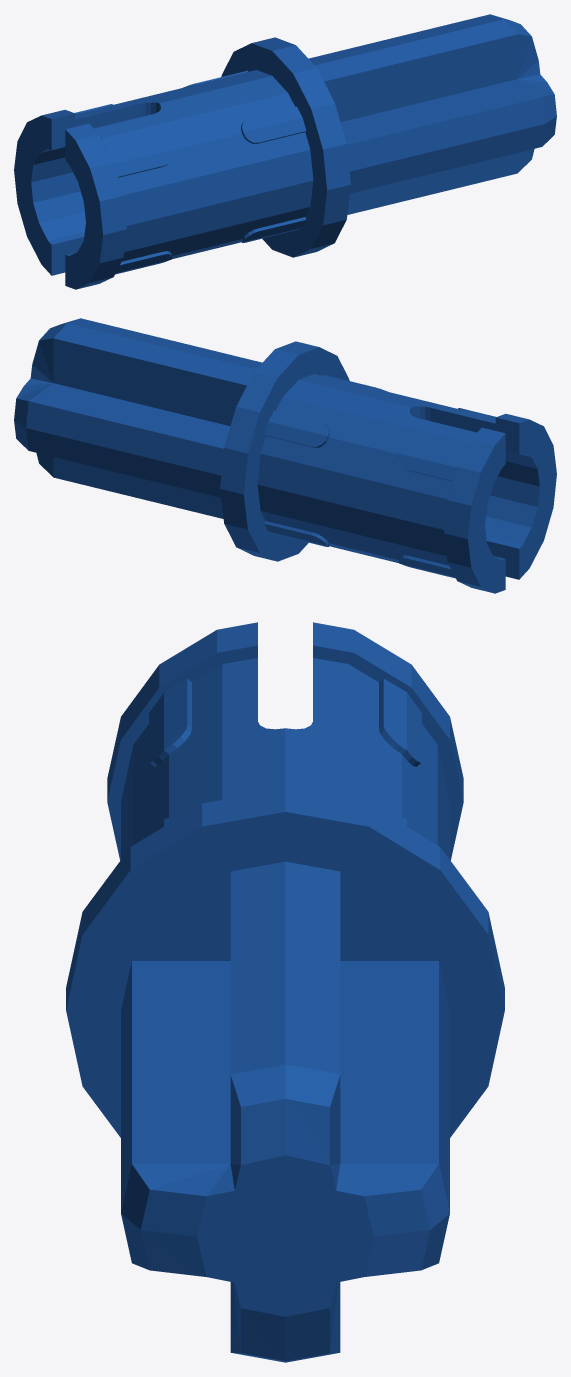
The model's file is conn_peg_axle.obj.
3 renders of one model, top to bottom at view 1: azimuth 30°, elevation 25°; view 2: azimuth 150°, elevation 25°; view 3: azimuth 270°, elevation 25°, orthographic. The views are drawn at different scales.
Parts seen in each view (by area): view 1: conn_peg_axle; view 2: conn_peg_axle; view 3: conn_peg_axle.
Part boxes in pixels (x1,y1,x2,y2): conn_peg_axle: [14, 14, 556, 289]; conn_peg_axle: [14, 318, 556, 593]; conn_peg_axle: [66, 622, 504, 1362].
Bounding box in the file's own units: 15.8 × 6.4 × 6.4.
